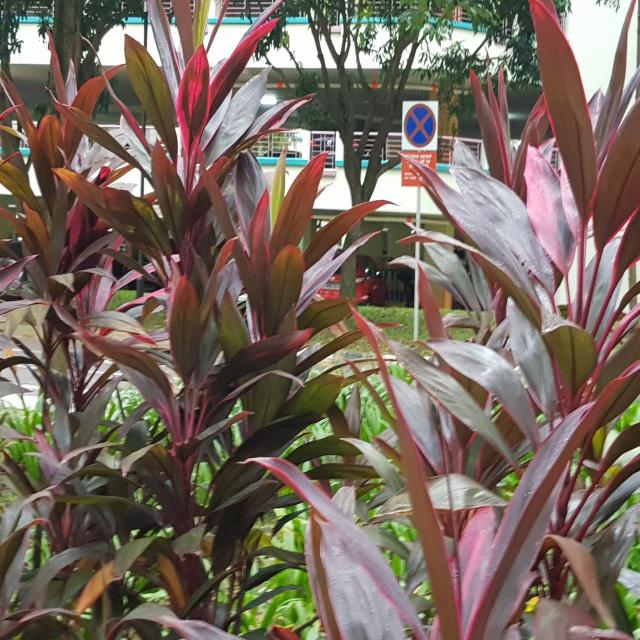Ti: (80, 21, 334, 506), (421, 6, 640, 414)
